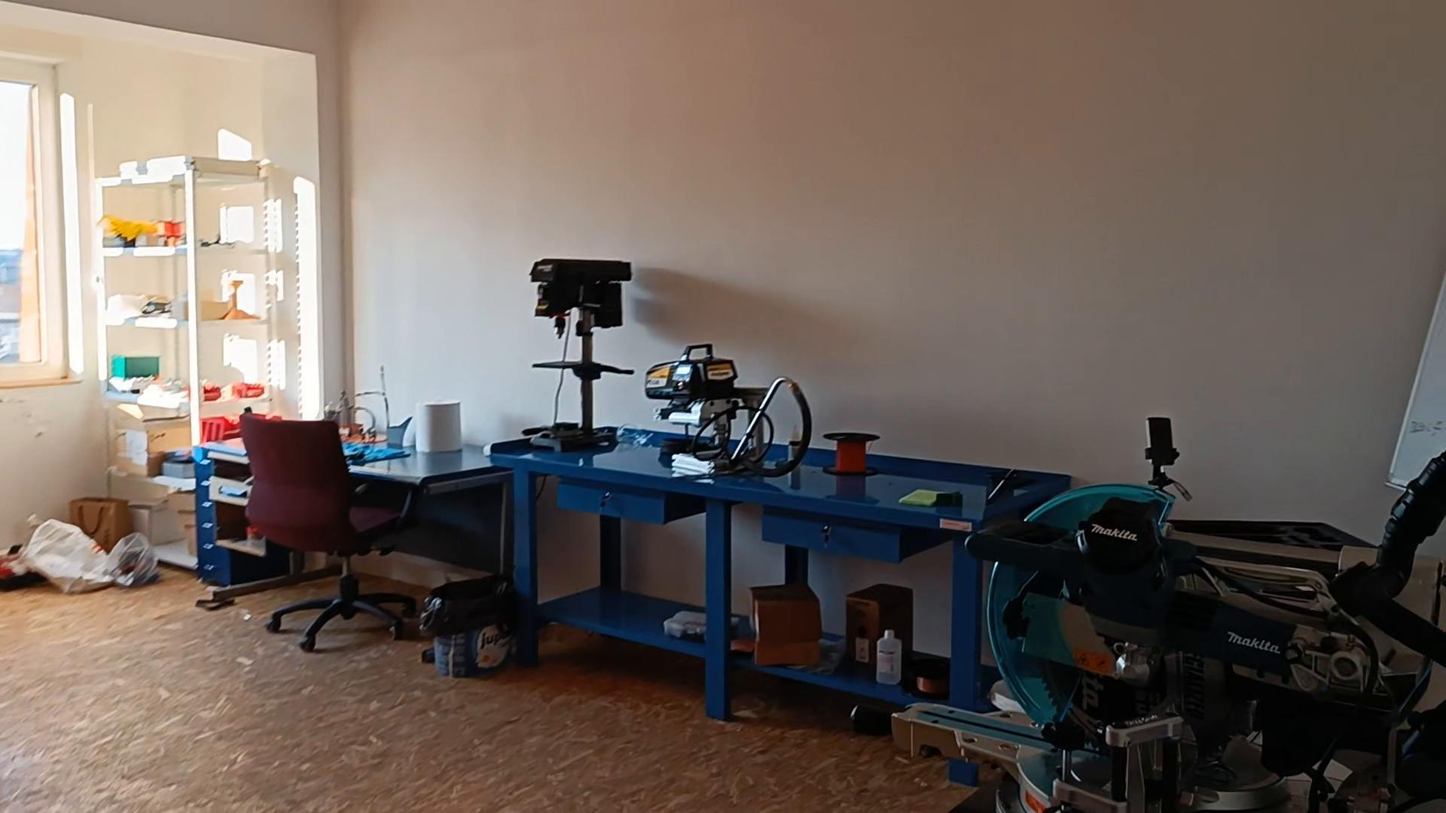ceiling: (0, 0, 325, 53)
floor: (0, 572, 969, 812)
wall: (26, 0, 1445, 534)
